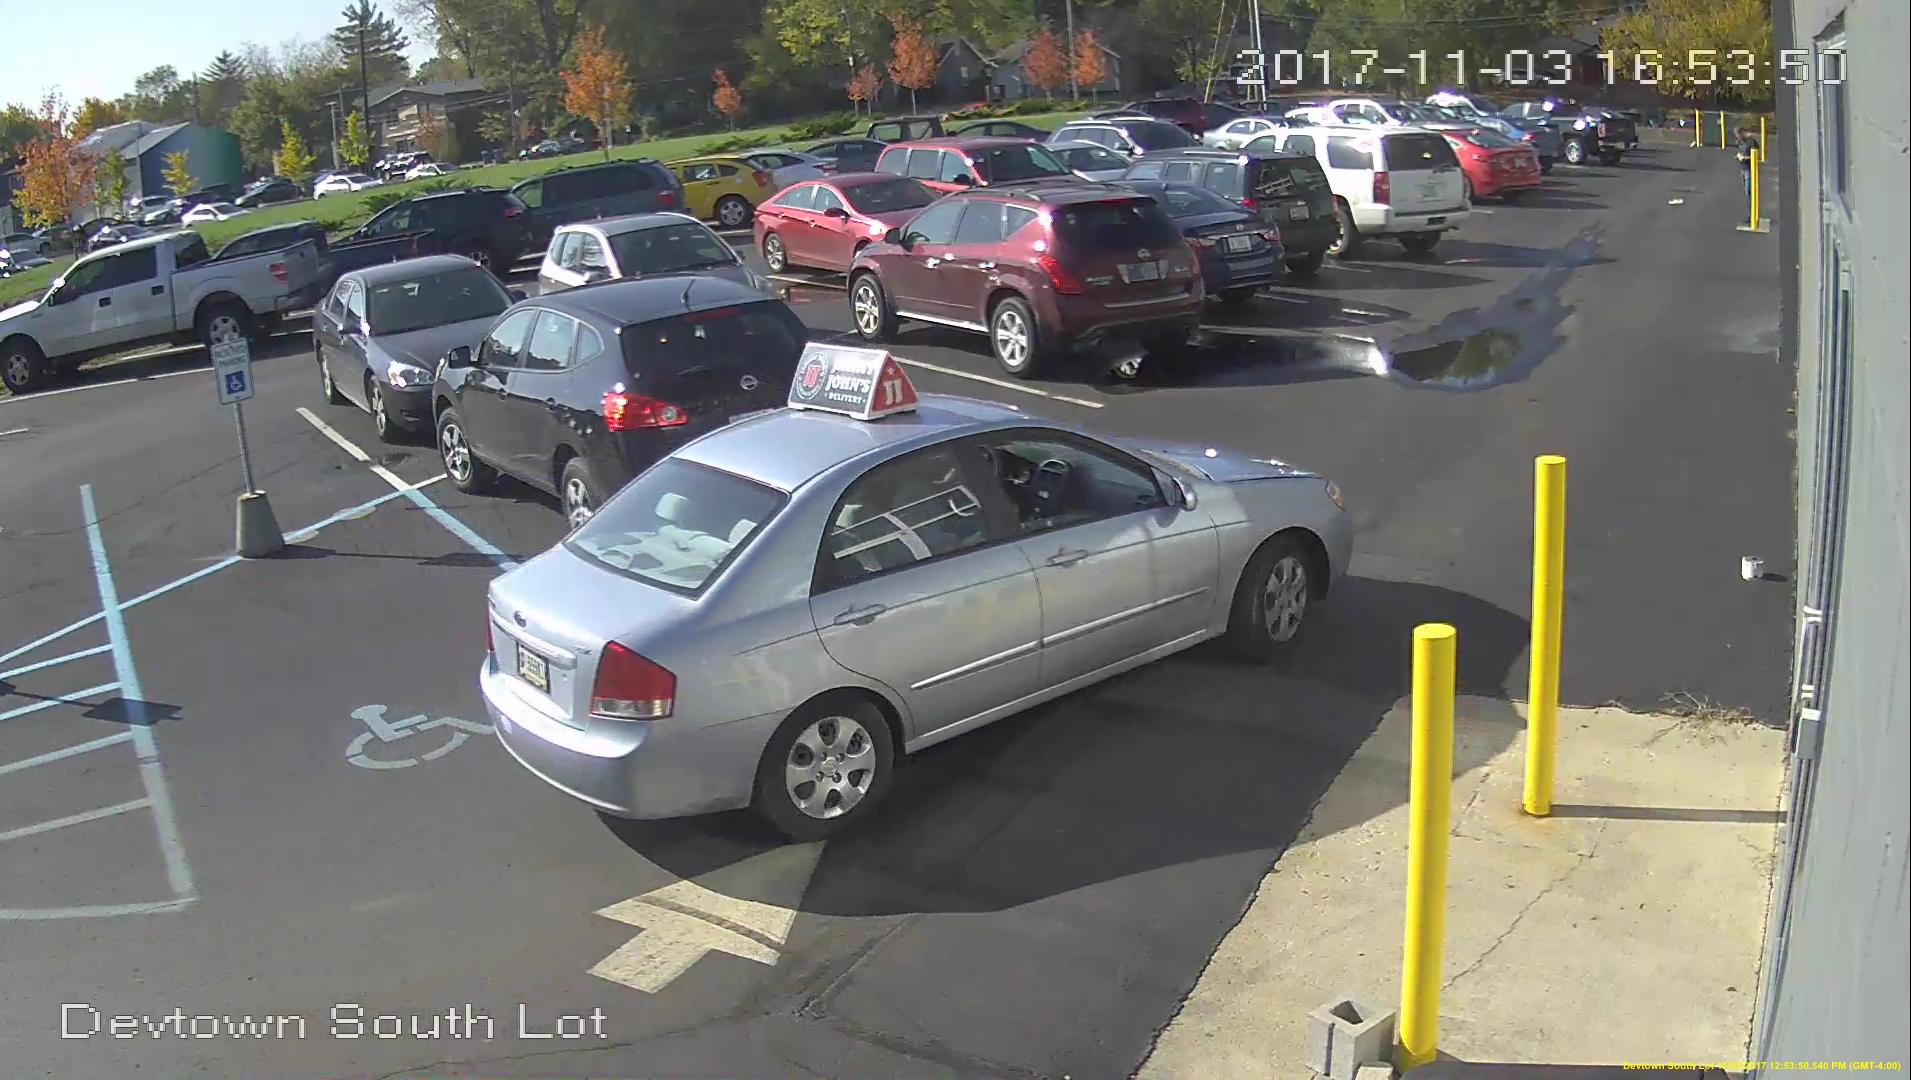jimmy_johns: (785, 339, 920, 426)
